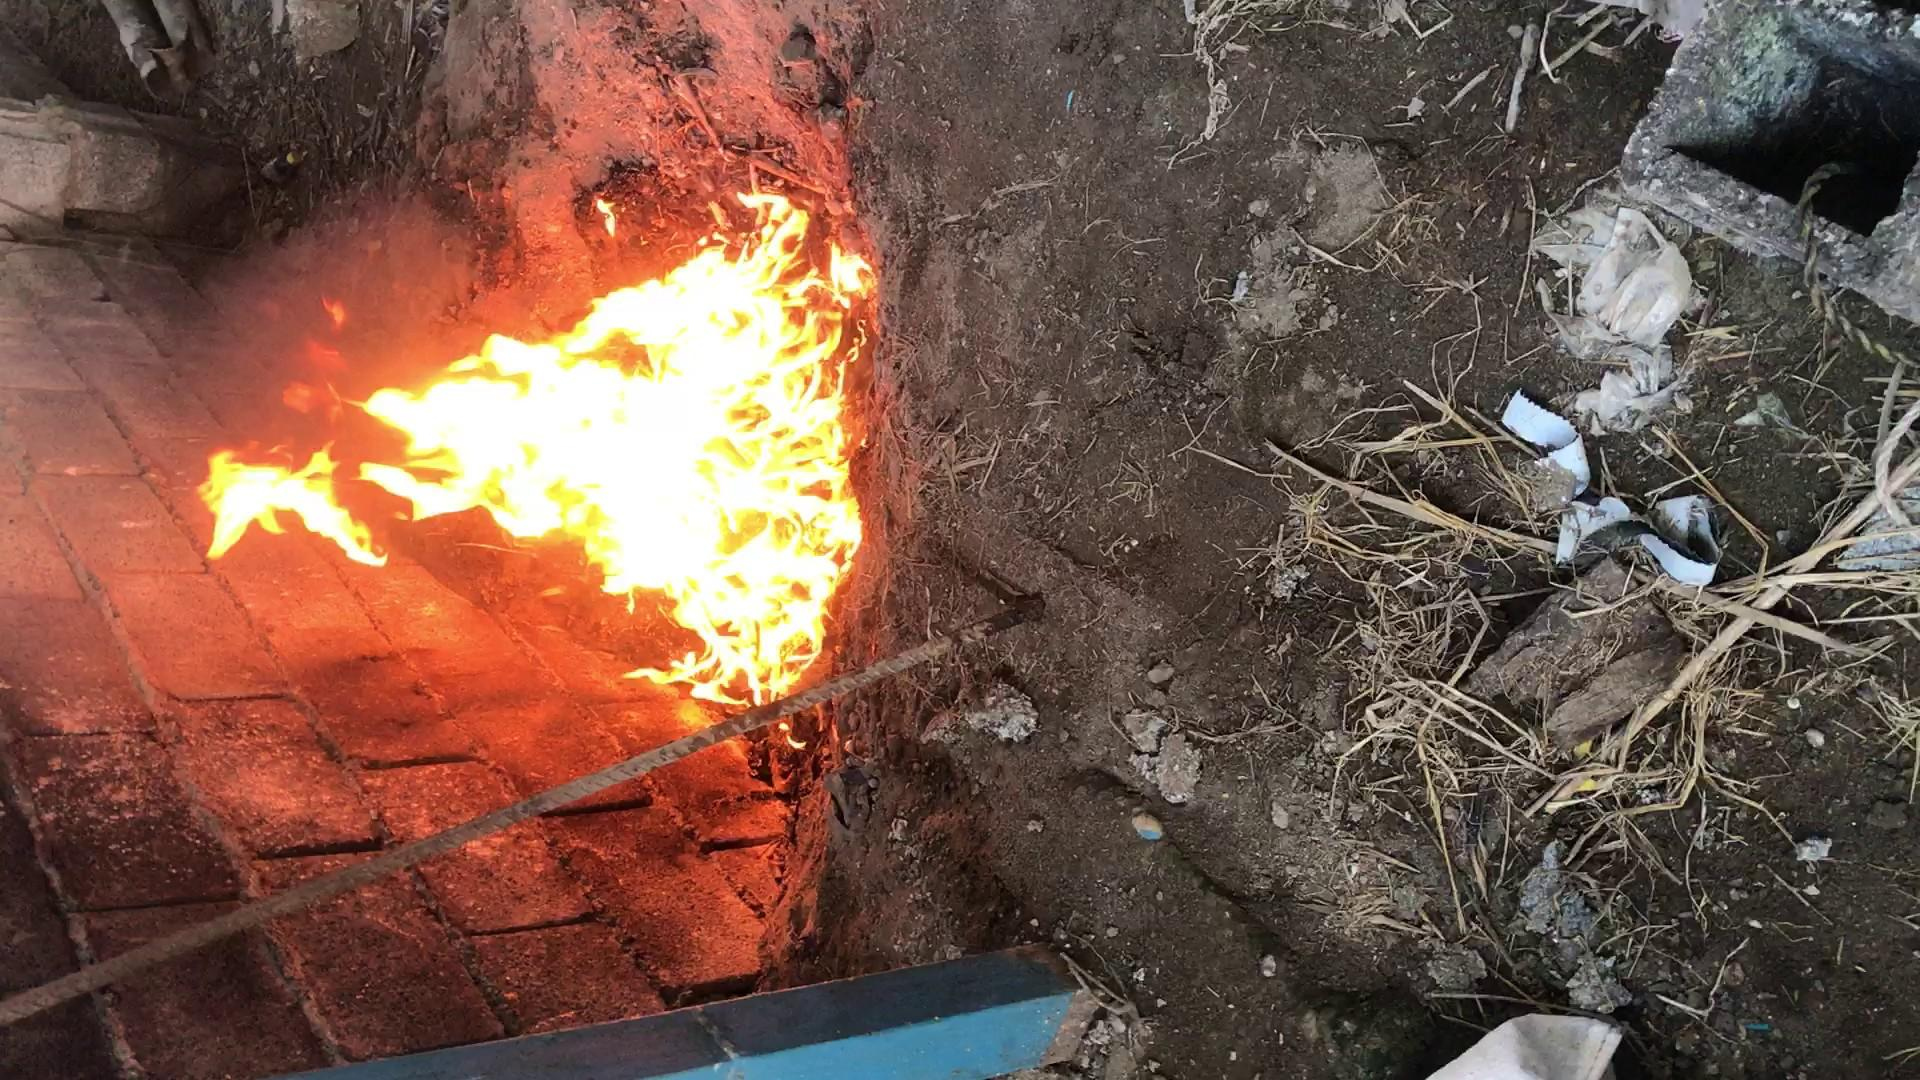fire: (659, 119, 1590, 502)
